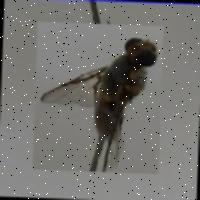Oriental-fruit-fly: (31, 22, 162, 174)
